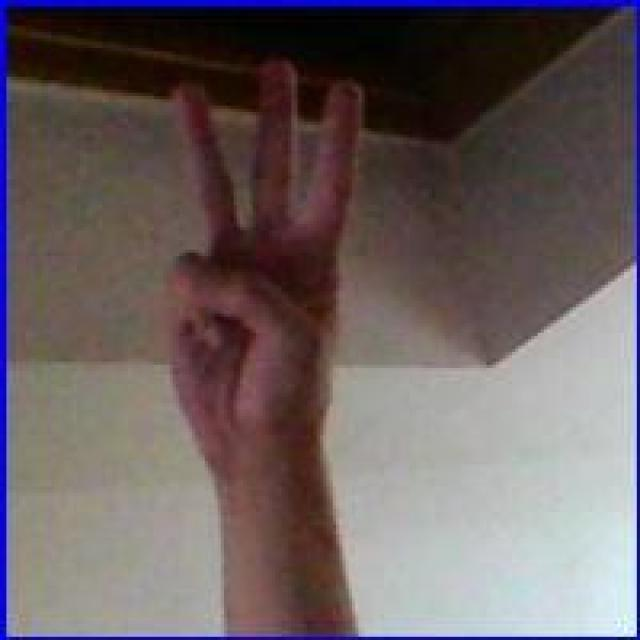W: (162, 56, 366, 469)
